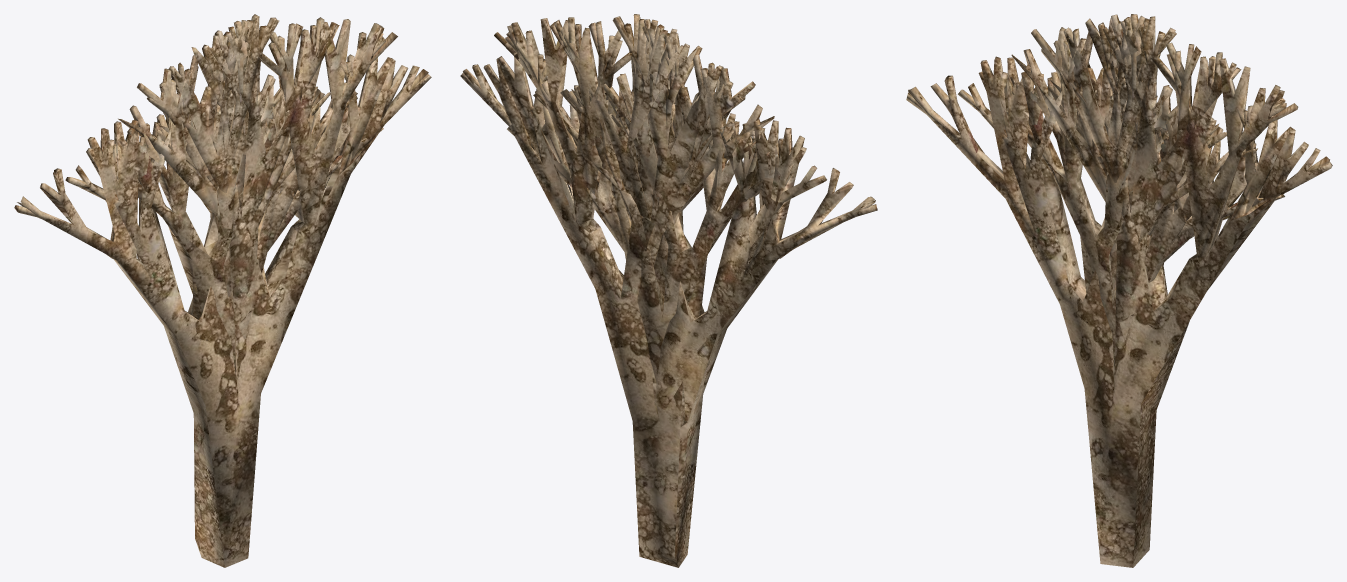
The model's file is coral_fan.glb.
The picture shows the model from 3 angles, left to right: view 1: azimuth 30°, elevation 25°; view 2: azimuth 150°, elevation 25°; view 3: azimuth 330°, elevation 25°; orthographic projection. The views are drawn at different scales.
Parts seen in each view (by area): view 1: coral_fan; view 2: coral_fan; view 3: coral_fan.
Part boxes in pixels (x1,y1,x2,y2): coral_fan: (14,14,431,567); coral_fan: (460,14,877,567); coral_fan: (906,14,1332,567).
Bounding box in the file's own units: 4.05 × 5 × 0.3918.
1 material, 1 textured.
